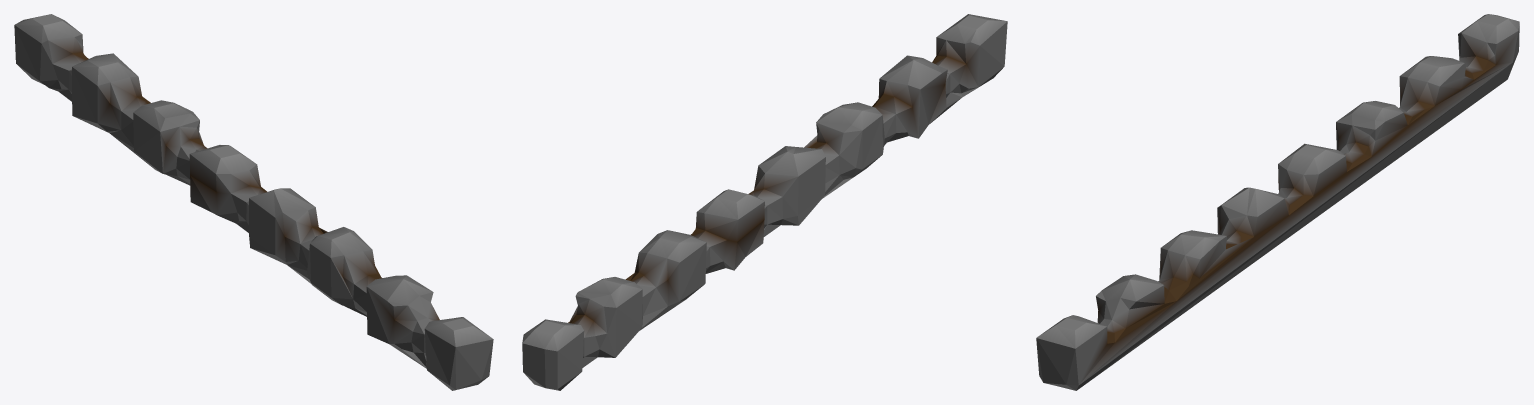
File: Medieval Walls(2).glb
3 renders of one model, left to right at view 1: azimuth 30°, elevation 25°; view 2: azimuth 150°, elevation 25°; view 3: azimuth 330°, elevation 25°, orthographic.
Visible parts, largest first — view 1: id0; view 2: id0; view 3: id0.
Boxes of the visible parts, left/top/right/bottom form: id0: left=14, top=14, right=493, bottom=390; id0: left=522, top=14, right=1007, bottom=390; id0: left=1036, top=14, right=1519, bottom=390.
Bounding box in the file's own units: 9.77 × 12.51 × 164.
